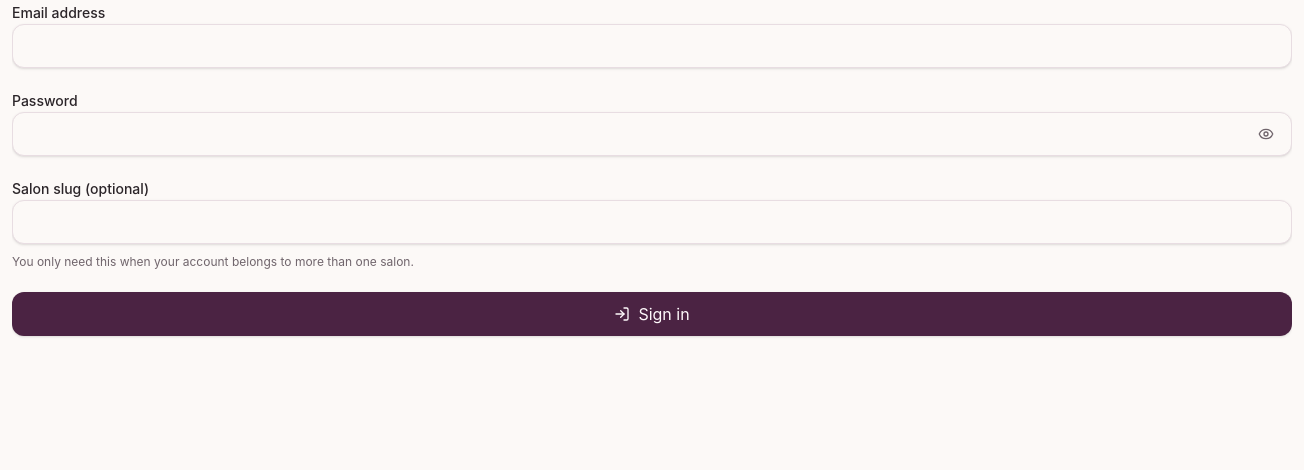
Test: LoginForm › renders safe tenant choices when selection is required
The width and height of the screenshot is (1304, 470).
Type "owner@example.com" into the field labelled "Email address" at (652, 46), box [12,24,1292,68]
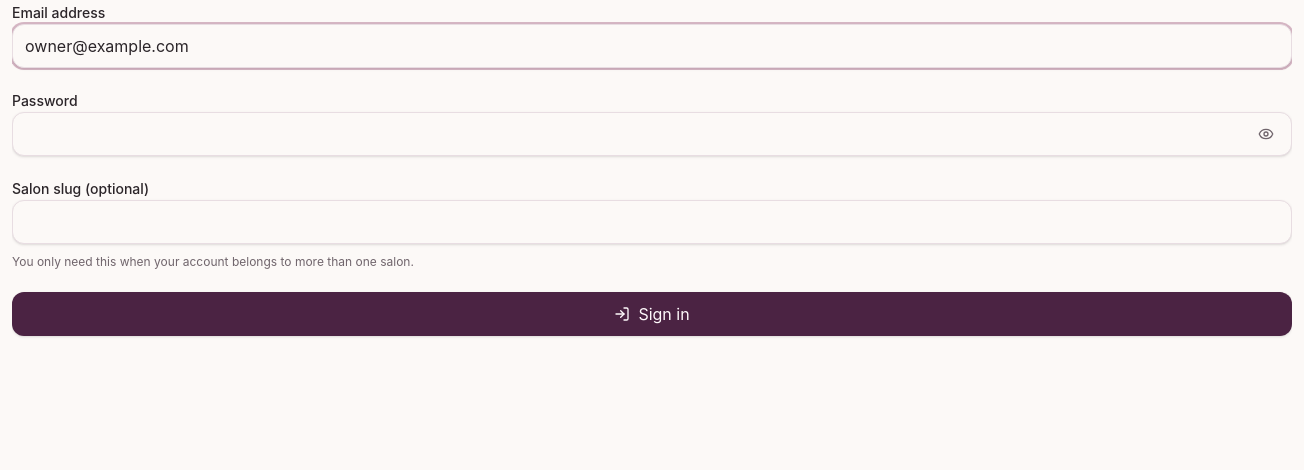
Type "secret" into the password field labelled "Password" at (652, 134), box [12,112,1292,156]
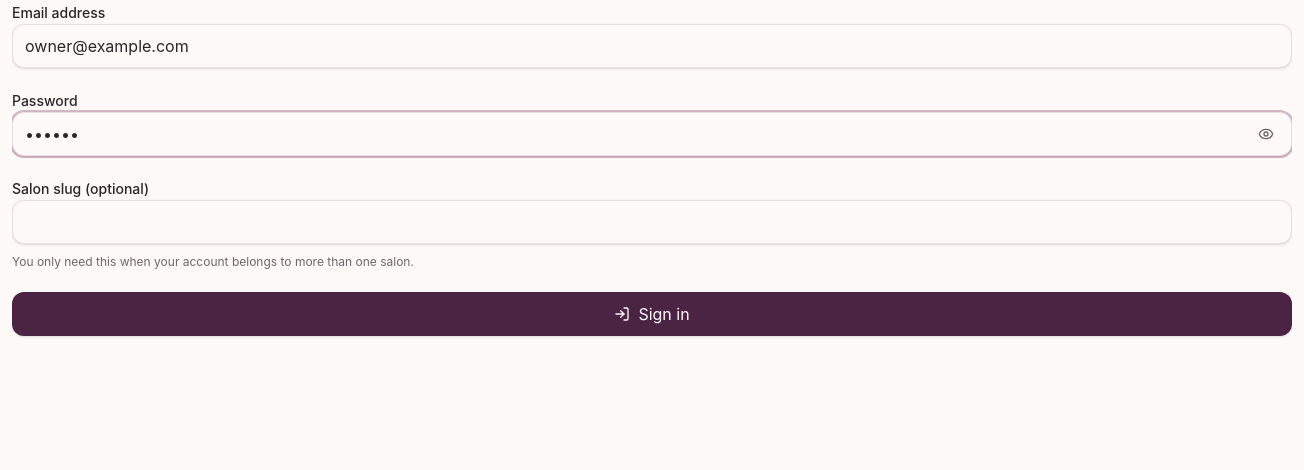
Click the button "Sign in" at (652, 314), box [12,292,1292,336]
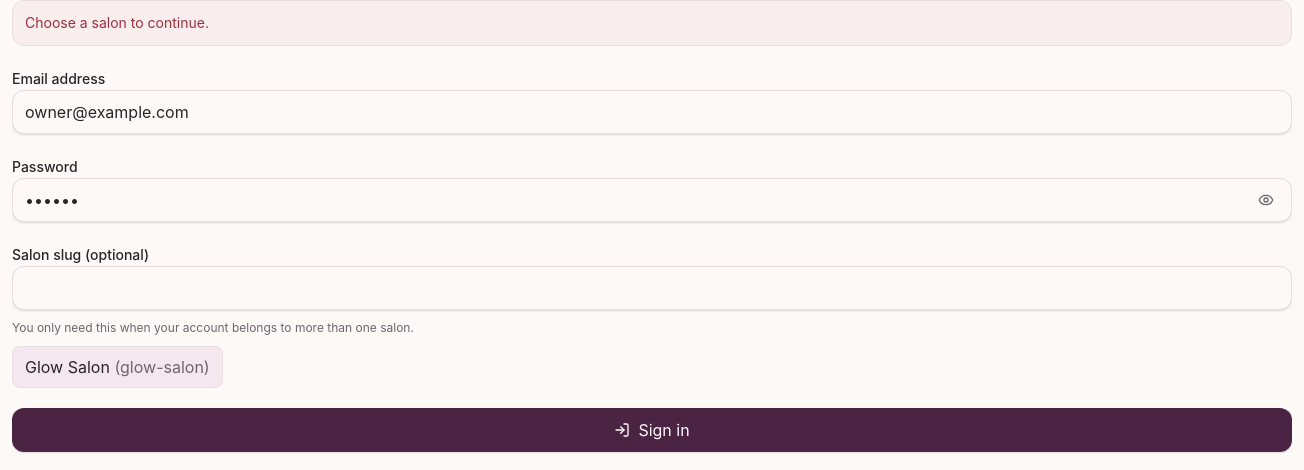
expect the button "Glow Salon (glow-salon)" is shown: met, box [12,346,223,388]
